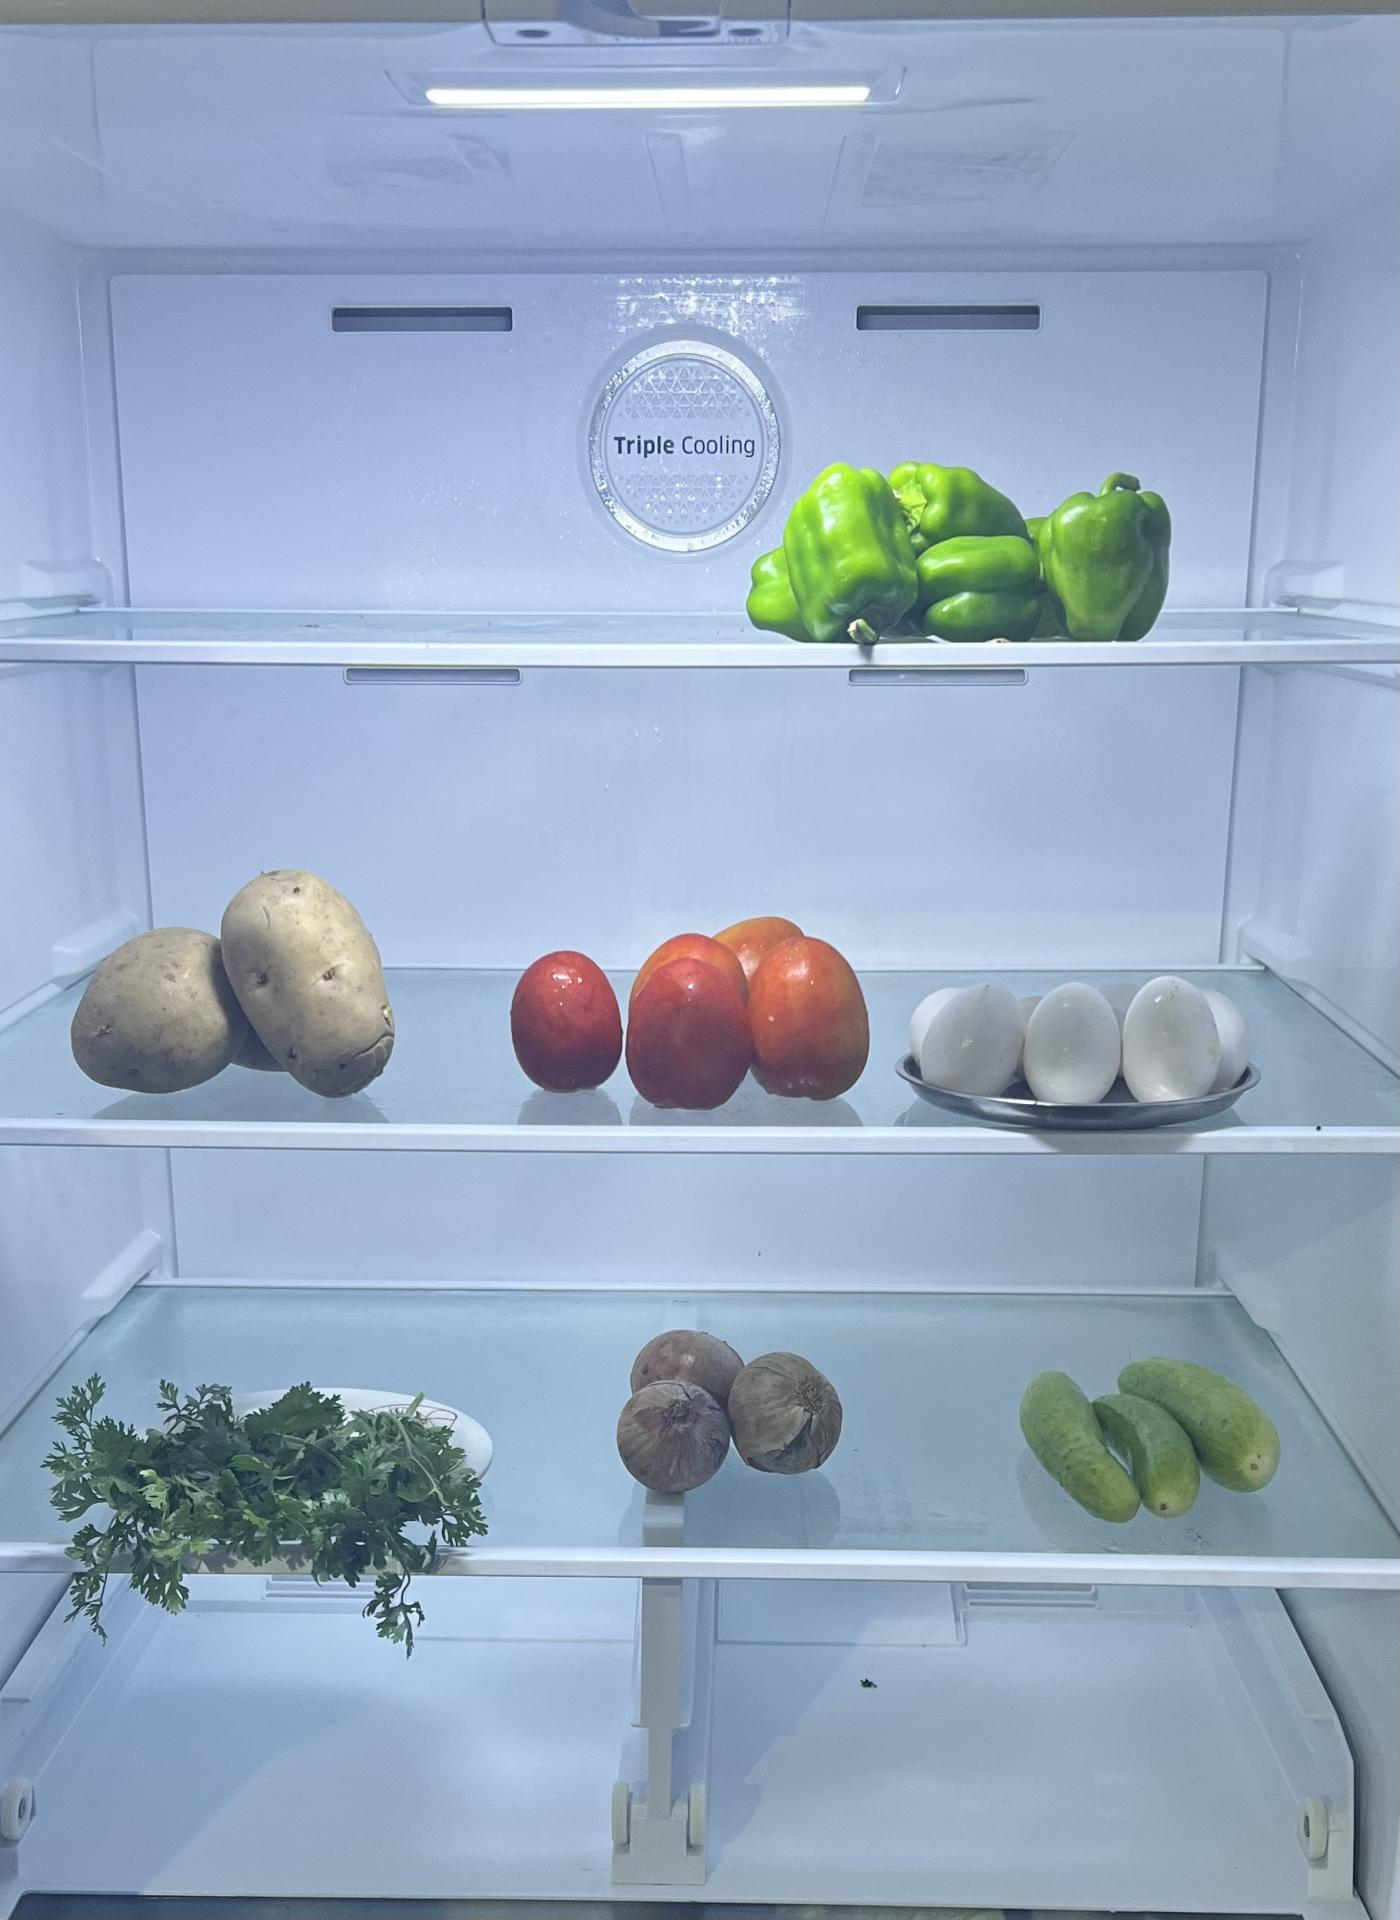capsicum: (745, 461, 1173, 651)
coriander: (57, 1377, 491, 1591)
cucumber: (1027, 1342, 1299, 1518)
egg: (904, 976, 1254, 1118)
onion: (616, 1330, 854, 1518)
potato: (73, 869, 401, 1103)
tomato: (504, 920, 878, 1120)
